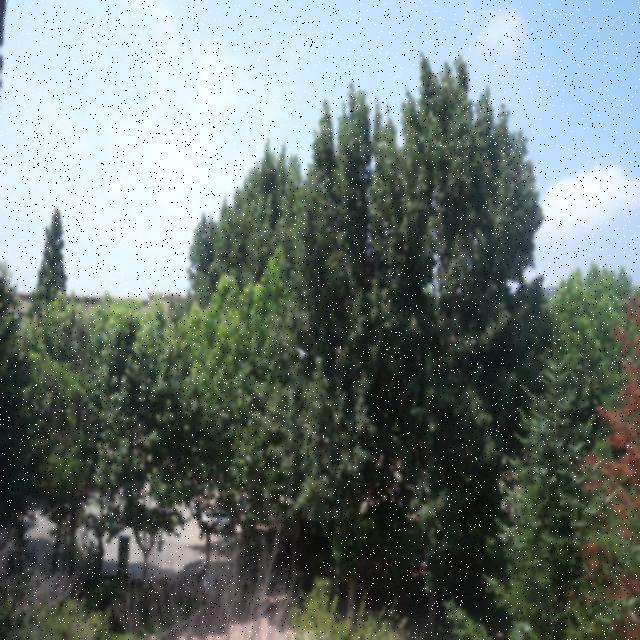UAV: (297, 349, 308, 359)
